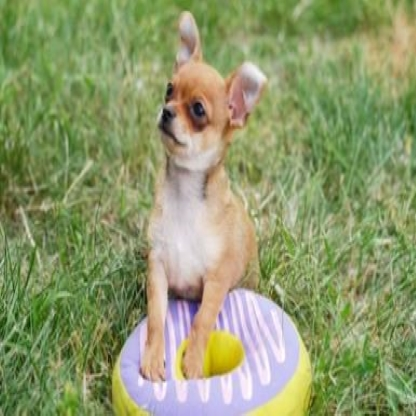chihuahua: (145, 8, 269, 383)
